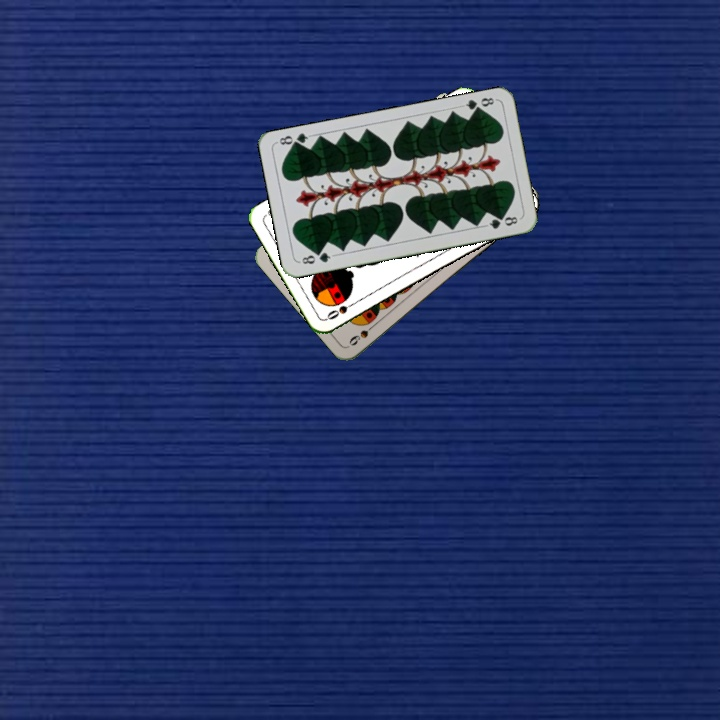G8: (458, 93, 498, 115), (296, 248, 336, 267)
S9: (345, 318, 380, 349)
SO: (323, 297, 360, 322)
